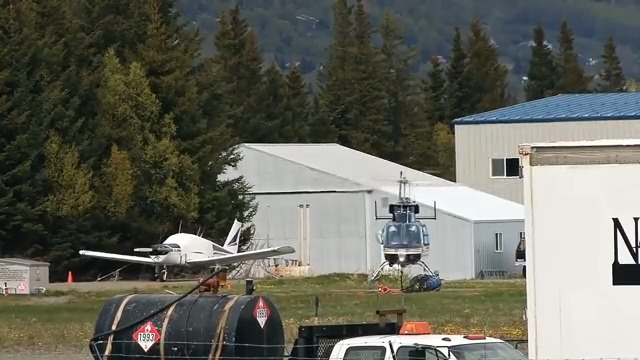airplane: (75, 219, 301, 285)
helicopter: (309, 167, 492, 295)
